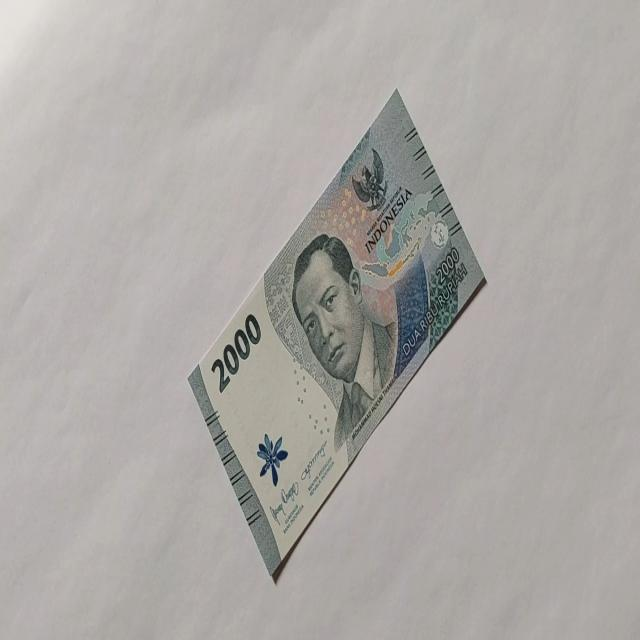dua ribu rupiah: (187, 86, 487, 582), (290, 231, 400, 453)
